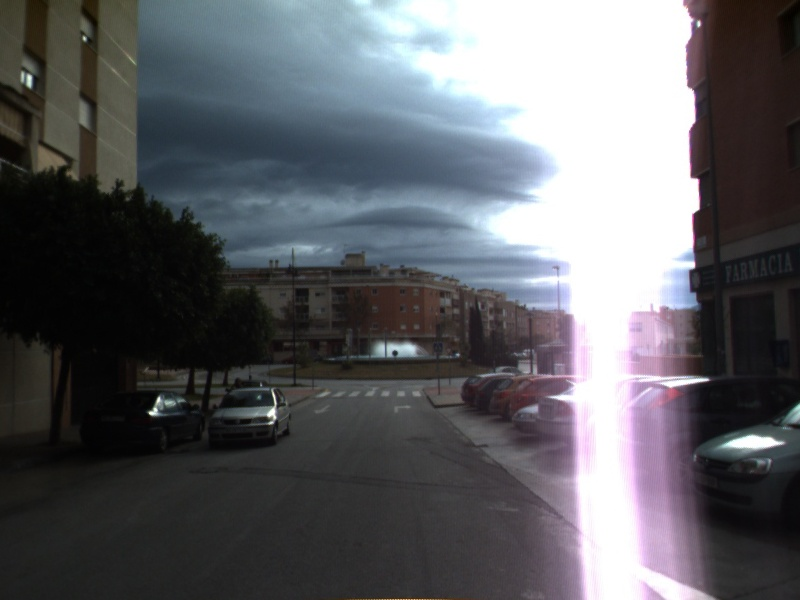RIGHT: (392, 402, 415, 415)
